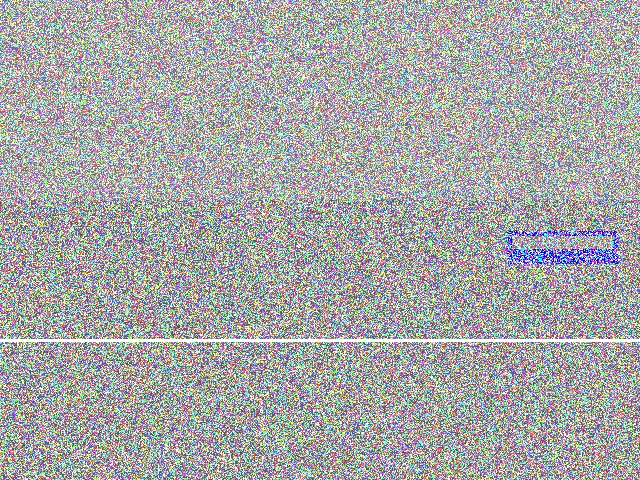bus: (230, 390, 308, 455)
car: (472, 173, 640, 253)
truck: (394, 269, 534, 358)
